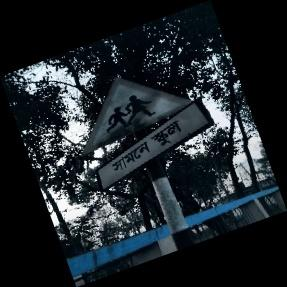School-in-front: (81, 75, 212, 200)
